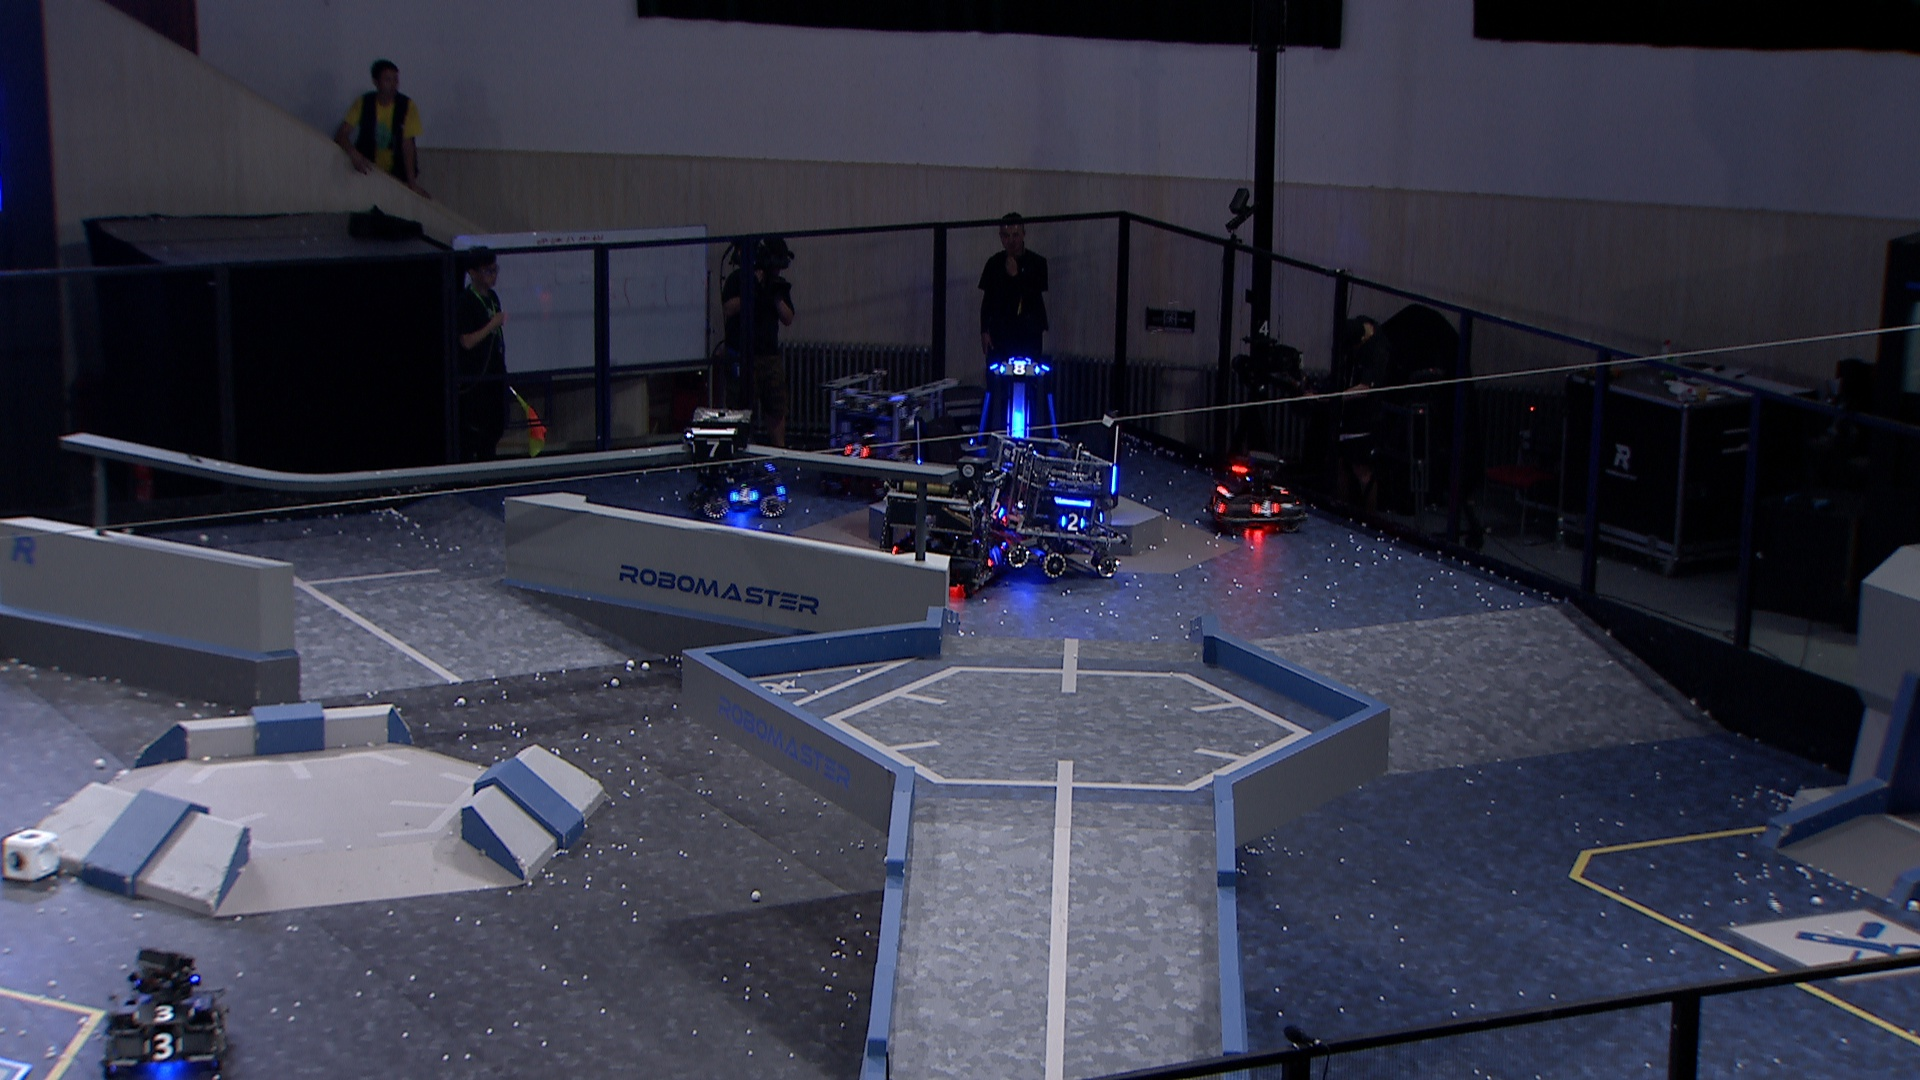armor: (131, 1000, 196, 1026), (141, 1031, 186, 1060), (688, 439, 740, 463), (975, 389, 993, 446), (996, 357, 1040, 378), (1044, 394, 1060, 447), (1007, 406, 1027, 446), (982, 541, 1007, 571), (727, 485, 761, 506), (204, 1007, 228, 1036), (1249, 498, 1280, 518), (843, 440, 870, 460), (1059, 512, 1087, 531), (1106, 460, 1120, 496), (986, 501, 1006, 520), (1269, 481, 1290, 498), (1211, 496, 1225, 516)
base: (910, 353, 1130, 520)
car: (978, 433, 1130, 582), (811, 357, 961, 498), (878, 458, 1021, 595), (98, 945, 235, 1079), (1203, 446, 1313, 534), (694, 444, 789, 524)
watcher: (680, 401, 756, 505)
